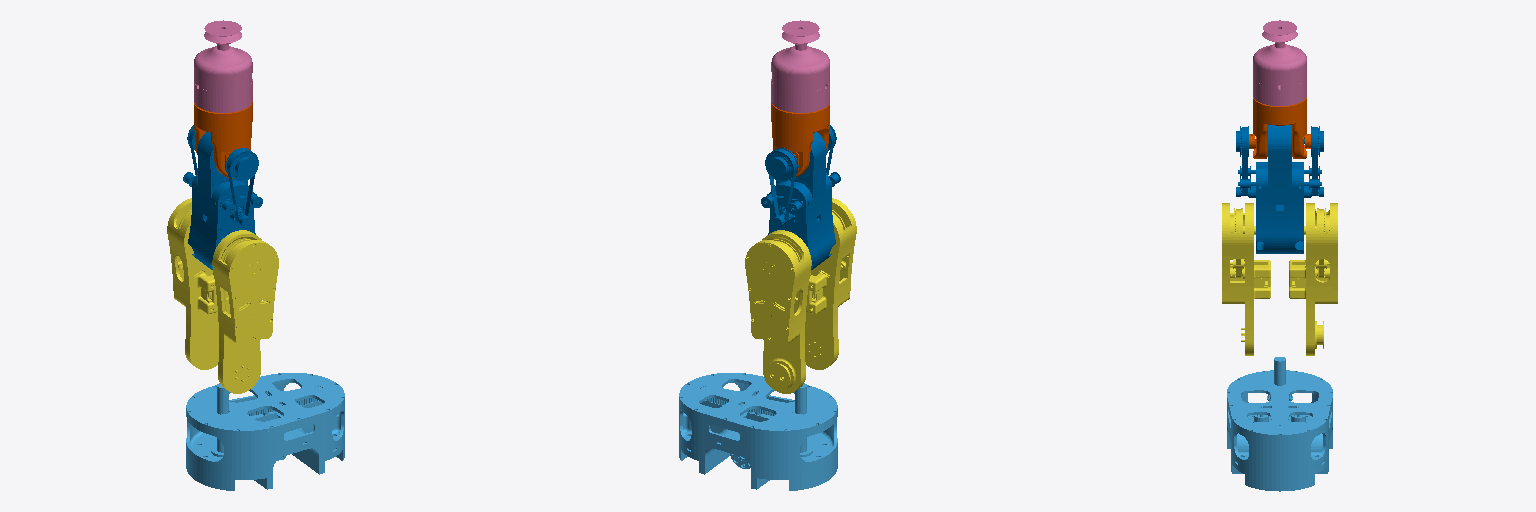
The robot description file, URDF, robot "robot_arm_5axis_rail_suction":
<?xml version="1.0"?>
<!--
  robot_arm_5axis_rail_suction.urdf
  기존 5축 팔 + 리니어 레일(prismatic joint_rail, Y축, 0~0.9 m).

  레일 제원: 1600 PPR, 리드 10 mm -> 1 m = 100회전 = 160,000 스텝 (500 RPM 에서 12.0 s)
  base link 가 link1 -> rail 로 바뀌었으므로 PyBullet 관절 인덱스가 하나 밀린다.
  충돌검사는 팔 전용 URDF(robot_arm_5axis_suction.urdf)를 그대로 쓴다.
-->
<robot name="robot_arm_5axis_rail_suction">

  <link name="rail">
    <visual>
      <origin xyz="0 0 0.035" rpy="0 0 0"/>
      <geometry>
        <mesh filename="robot_meshes/rail.stl" scale="0.001 0.001 0.001"/>
      </geometry>
    </visual>
  </link>

  <link name="link1">
    <visual>
      <origin xyz="0 0 0" rpy="0 0 0"/>
      <geometry>
        <mesh filename="robot_meshes/link1.stl" scale="0.001 0.001 0.001"/>
      </geometry>
    </visual>
  </link>

  <link name="link2">
    <visual>
      <origin xyz="0 0 0" rpy="0 0 0"/>
      <geometry>
        <mesh filename="robot_meshes/link2.stl" scale="0.001 0.001 0.001"/>
      </geometry>
    </visual>
  </link>

  <link name="link3">
    <visual>
      <origin xyz="0 0 0" rpy="0 0 0"/>
      <geometry>
        <mesh filename="robot_meshes/link3.stl" scale="0.001 0.001 0.001"/>
      </geometry>
    </visual>
  </link>

  <link name="link4">
    <visual>
      <origin xyz="0 0 0" rpy="0 0 0"/>
      <geometry>
        <mesh filename="robot_meshes/link4.stl" scale="0.001 0.001 0.001"/>
      </geometry>
    </visual>
  </link>

  <link name="link5">
    <visual>
      <origin xyz="0 0 0" rpy="0 0 0"/>
      <geometry>
        <mesh filename="robot_meshes/link5.stl" scale="0.001 0.001 0.001"/>
      </geometry>
    </visual>
  </link>

  <link name="suction">
    <visual>
      <origin xyz="0 0 0" rpy="0 0 0"/>
      <geometry>
        <mesh filename="robot_meshes/suction.stl" scale="0.001 0.001 0.001"/>
      </geometry>
    </visual>
  </link>

  <link name="suction_end"/>

  <!-- ===== JOINTS ===== -->

<joint name="joint_rail" type="prismatic">
    <origin xyz="0.0125 0.09455 0.008" rpy="0 0 0"/>
    <parent link="rail"/><child link="link1"/>
    <axis xyz="0 1 0"/> <!-- Y축 방향으로 이동 -->
    <limit lower="0.0" upper="0.9" effort="100.0" velocity="5.0"/>
</joint>

  <joint name="joint1" type="revolute">
    <parent link="link1"/><child link="link2"/>
    <origin xyz="-0.0945 0 0.105" rpy="0 0 0"/>
    <axis xyz="0 0 1"/>
    <limit lower="-3.14" upper="3.14" effort="10" velocity="1"/>
  </joint>

  <joint name="joint2" type="revolute">
    <parent link="link2"/><child link="link3"/>
    <origin xyz="0 0 0.09" rpy="0 0 0"/>
    <axis xyz="0 1 0"/>
    <limit lower="-3.14" upper="3.14" effort="10" velocity="1"/>
  </joint>

  <joint name="joint3" type="revolute">
    <parent link="link3"/><child link="link4"/>
    <origin xyz="0 0 0.195" rpy="0 0 0"/>
    <axis xyz="0 1 0"/>
    <limit lower="-3.14" upper="3.14" effort="10" velocity="1"/>
  </joint>

  <joint name="joint4" type="revolute">
    <parent link="link4"/><child link="link5"/>
    <origin xyz="0 0 0.165" rpy="0 0 0"/>
    <axis xyz="0 1 0"/>
    <limit lower="-3.14" upper="3.14" effort="10" velocity="1"/>
  </joint>

  <joint name="joint5" type="revolute">
    <parent link="link5"/><child link="suction"/>
    <origin xyz="0 0 0.087" rpy="0 0 0"/>
    <axis xyz="0 0 1"/>
    <limit lower="-3.14" upper="3.14" effort="10" velocity="1"/>
  </joint>

  <joint name="suction_fixed" type="fixed">
    <parent link="suction"/><child link="suction_end"/>
    <origin xyz="0 0 0.1245" rpy="0 0 0"/>
  </joint>

</robot>

--- Facts derived from the render (not from the file) ---
The picture shows the robot from 3 angles, left to right: view 1: azimuth 30°, elevation 25°; view 2: azimuth 150°, elevation 25°; view 3: azimuth 270°, elevation 25°; orthographic projection.
Model robot_arm_5axis_rail_suction with 8 links and 7 joints (5 revolute, 1 prismatic, 1 fixed), rooted at rail, posed all joints at 0.
Links seen in each view (by area): view 1: link1, link3, link4, suction, link5; view 2: link1, link3, link4, suction, link5; view 3: link1, link3, link4, suction, link5.
Link boxes in pixels (left/top/right/bottom): link1: left=186, top=373, right=344, bottom=490; link3: left=167, top=198, right=278, bottom=393; link4: left=183, top=125, right=262, bottom=269; suction: left=194, top=20, right=252, bottom=112; link5: left=194, top=101, right=252, bottom=178; link1: left=679, top=373, right=837, bottom=490; link3: left=745, top=198, right=856, bottom=393; link4: left=761, top=125, right=840, bottom=269; suction: left=771, top=20, right=829, bottom=112; link5: left=771, top=101, right=829, bottom=178; link1: left=1227, top=357, right=1332, bottom=491; link3: left=1222, top=203, right=1337, bottom=355; link4: left=1236, top=125, right=1323, bottom=253; suction: left=1253, top=20, right=1306, bottom=105; link5: left=1249, top=97, right=1310, bottom=158.
Size in the robot's own frame: 0.2595 by 0.194 by 0.7685 metres.
5 mesh visuals loaded from 7 distinct referenced files (5 binary STL); not drawn: 2 (reference not matched to a file when rendering).
